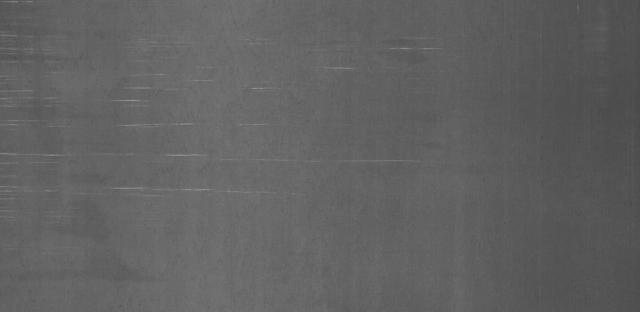waist_folding: (0, 22, 307, 224)
